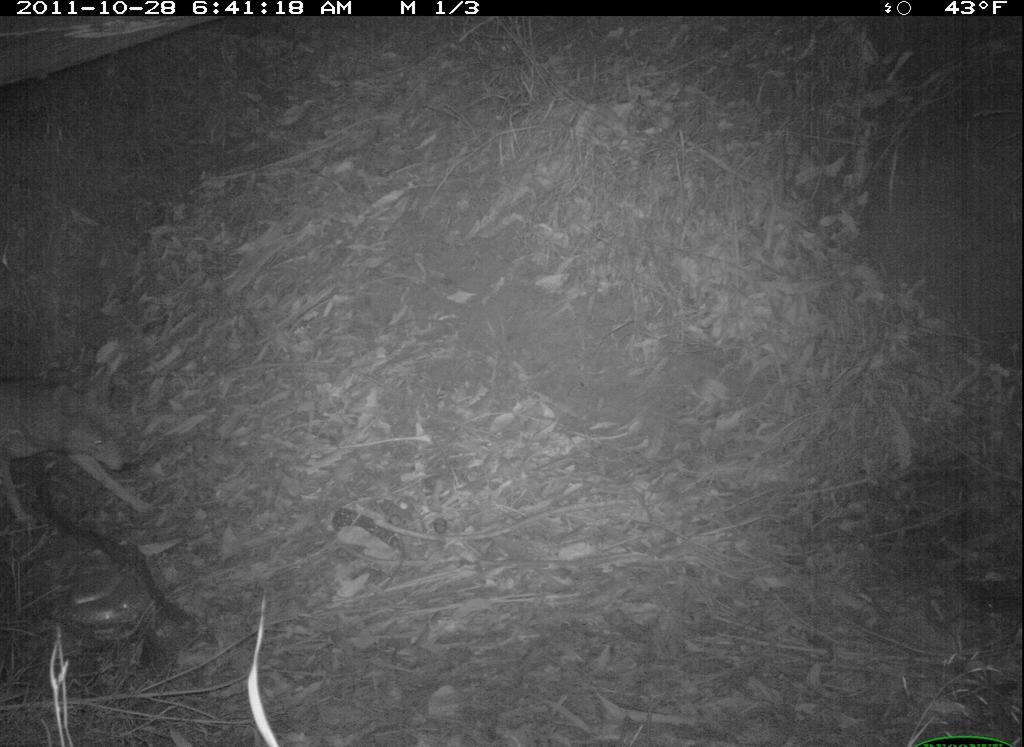coyote: (3, 338, 161, 534)
